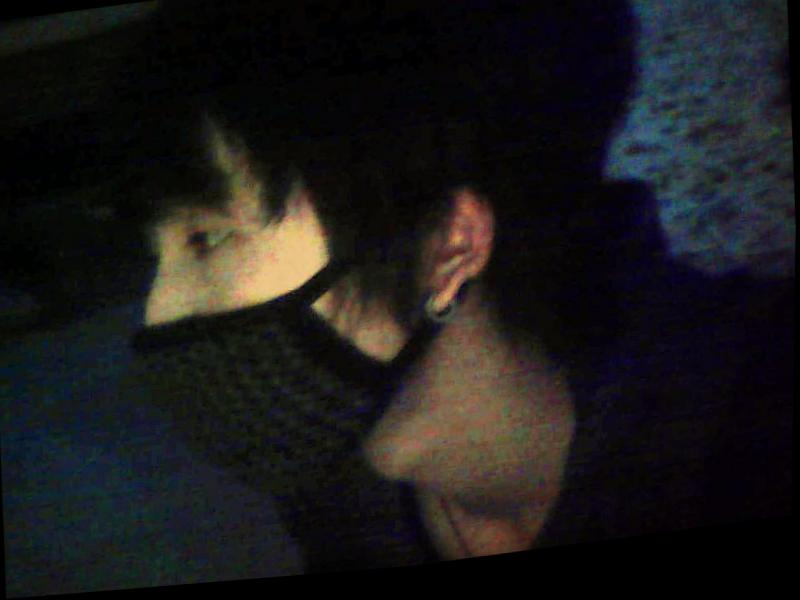WRONG: (123, 107, 395, 503)
